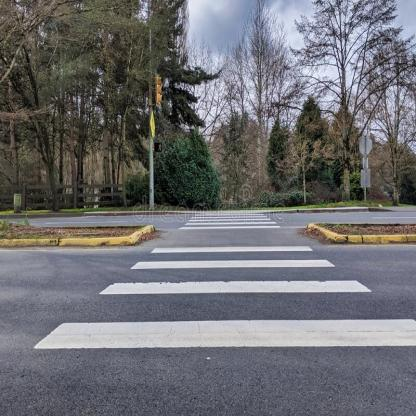Traffic Signal: (34, 242, 416, 362)
